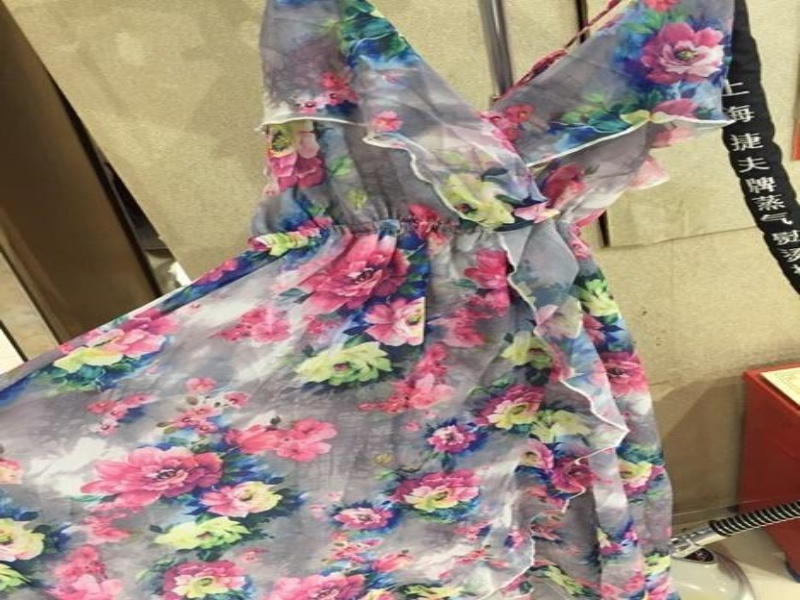sling_dress: (0, 0, 769, 599)
